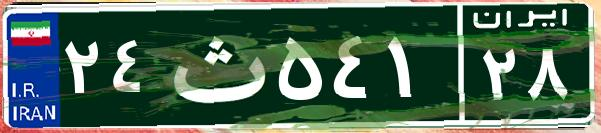1: (385, 28, 445, 110)
2: (57, 26, 110, 107), (475, 38, 525, 113)
4: (330, 28, 385, 110), (110, 28, 158, 105)
5: (273, 28, 330, 110)
8: (525, 38, 570, 115)
ث: (158, 15, 273, 115)
